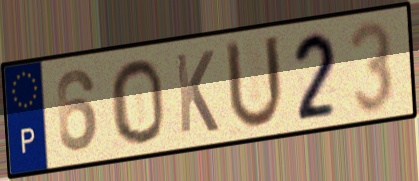2: (287, 25, 342, 128)
3: (348, 14, 399, 118)
6: (54, 67, 102, 155)
K: (172, 47, 221, 137)
O: (107, 56, 168, 147)
U: (223, 32, 287, 134)
